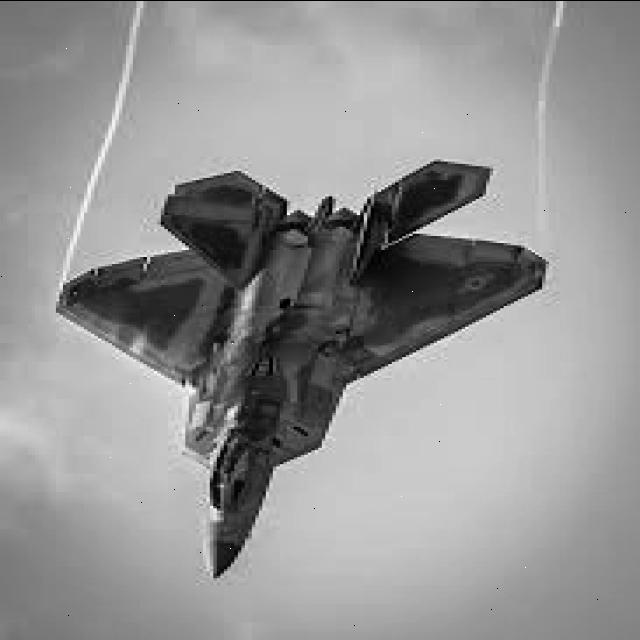F22: (42, 122, 572, 597)
